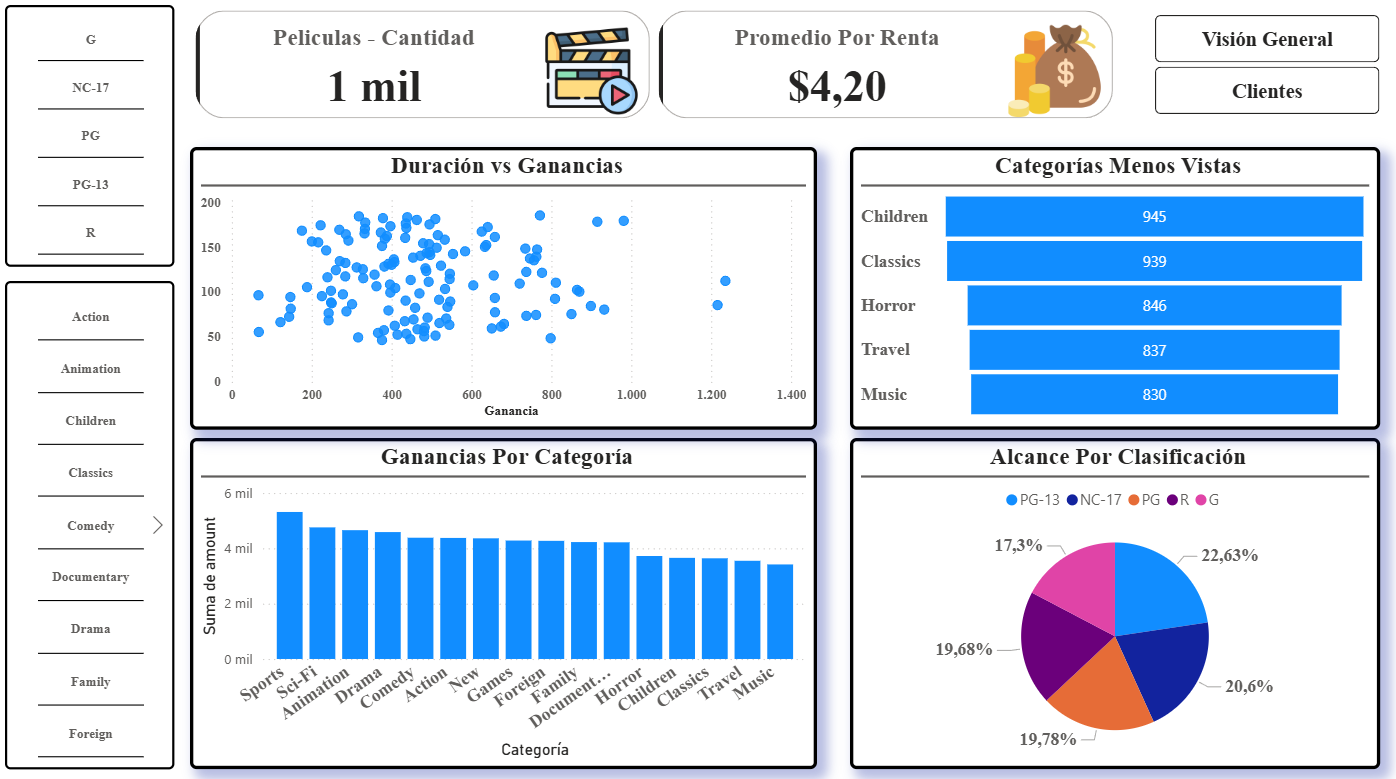

The page's visual inventory and layout, read from the dashboard file:
{"tool":"powerbi","page":{"name":"Películas","canvas":[1280,720],"ordinal":1},"visuals":[{"type":"clusteredColumnChart","title":"Ganancias Por Categoría","fields":{"Category":["Dimension_Peliculas.category"],"Y":["Sum(TblHechos_Ventas.amount)"]},"box":[173.7,403.9,570.4,300.9],"z":0},{"type":"scatterChart","title":"Duración vs Ganancias","fields":{"X":["Sum(TblHechos_Ventas.amount)"],"Y":["Dimension_Peliculas.length"]},"box":[173.7,138.8,570.4,257],"z":1000},{"type":"pieChart","title":"Alcance Por Clasificación","fields":{"Y":["Sum(TblHechos_Ventas.amount)"],"Category":["Dimension_Peliculas.rating"]},"box":[773.7,403.9,481.8,300.9],"z":2000},{"type":"cardVisual","fields":{"Data":["Medidas.Peliculas - Cantidad","Medidas.Promedio Por Renta"]},"box":[173.7,9.9,845.4,108.4],"z":3000},{"type":"funnel","title":"Categorías Menos Vistas","fields":{"Y":["Count(TblHechos_Ventas.payment_id)"],"Category":["Dimension_Peliculas.category"]},"box":[773.7,138.8,481.8,257],"z":4000},{"type":"slicer","fields":{"Values":["Dimension_Peliculas.rating"]},"box":[5.4,9.9,154,238.2],"z":5000},{"type":"slicer","fields":{"Values":["Dimension_Peliculas.category"]},"box":[5.4,260.6,154,444.2],"z":6000},{"type":"pageNavigator","box":[1051.3,18.8,204.2,91.3],"z":7000}]}

Visuals, with their boxes in screenshot pixels (x1, y1, x2, y2), scaled from the page's 1280x720 canvas onto the 1396x779 screenshot:
"Ganancias Por Categoría" clusteredColumnChart: 189 437 812 763
"Duración vs Ganancias" scatterChart: 189 150 812 428
"Alcance Por Clasificación" pieChart: 844 437 1369 763
cardVisual - Medidas.Peliculas - Cantidad x Medidas.Promedio Por Renta: 189 11 1111 128
"Categorías Menos Vistas" funnel: 844 150 1369 428
slicer - Dimension_Peliculas.rating: 6 11 174 268
slicer - Dimension_Peliculas.category: 6 282 174 763
pageNavigator: 1147 20 1369 119
